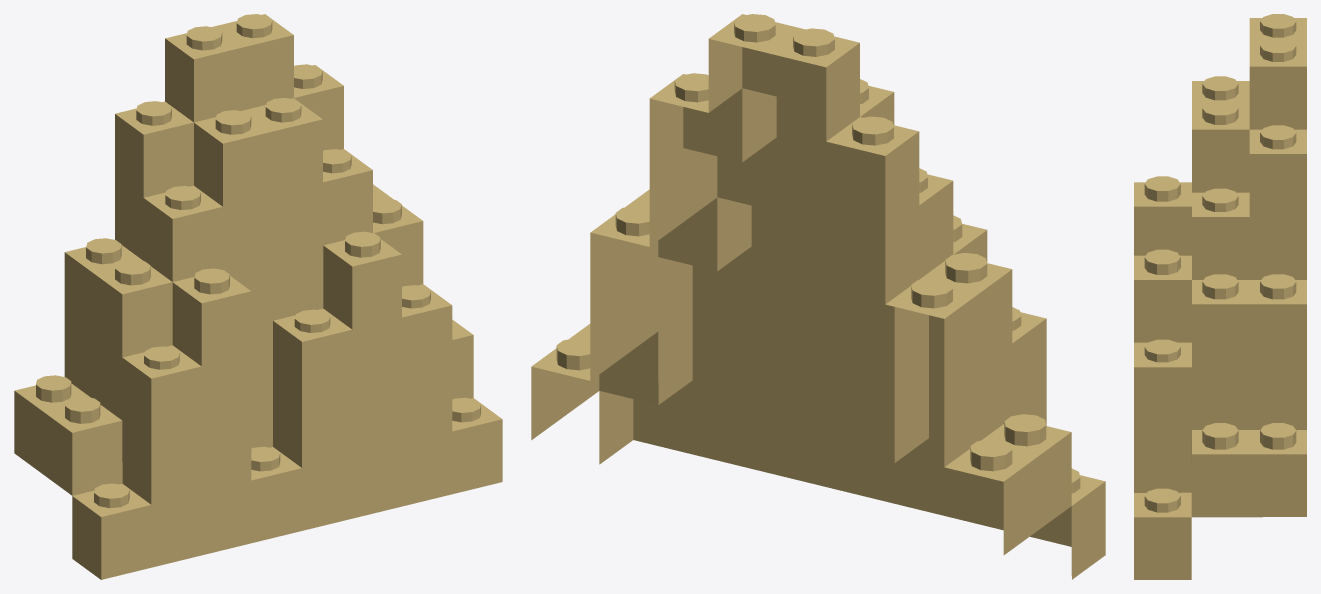
File: Rock_1.fbx
3 renders of one model, left to right at view 1: azimuth 30°, elevation 25°; view 2: azimuth 150°, elevation 25°; view 3: azimuth 270°, elevation 25°, orthographic. The views are drawn at different scales.
Visible parts, largest first — view 1: Part.010; view 2: Part.010; view 3: Part.010.
Part boxes in pixels (bbox=[...]): Part.010: bbox=[14, 14, 502, 579]; Part.010: bbox=[531, 14, 1105, 579]; Part.010: bbox=[1134, 14, 1306, 579].
Size of the model in its own units: 6392 by 6852 by 2392.
